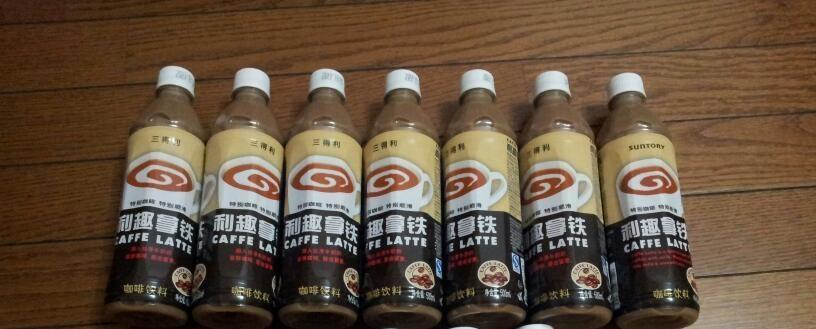Suntory_Caffe_Latte: (121, 130, 196, 305)
